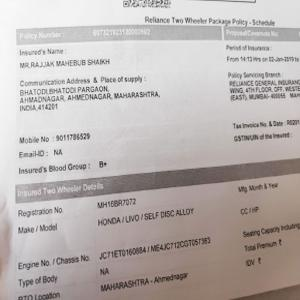text: (15, 43, 161, 174)
